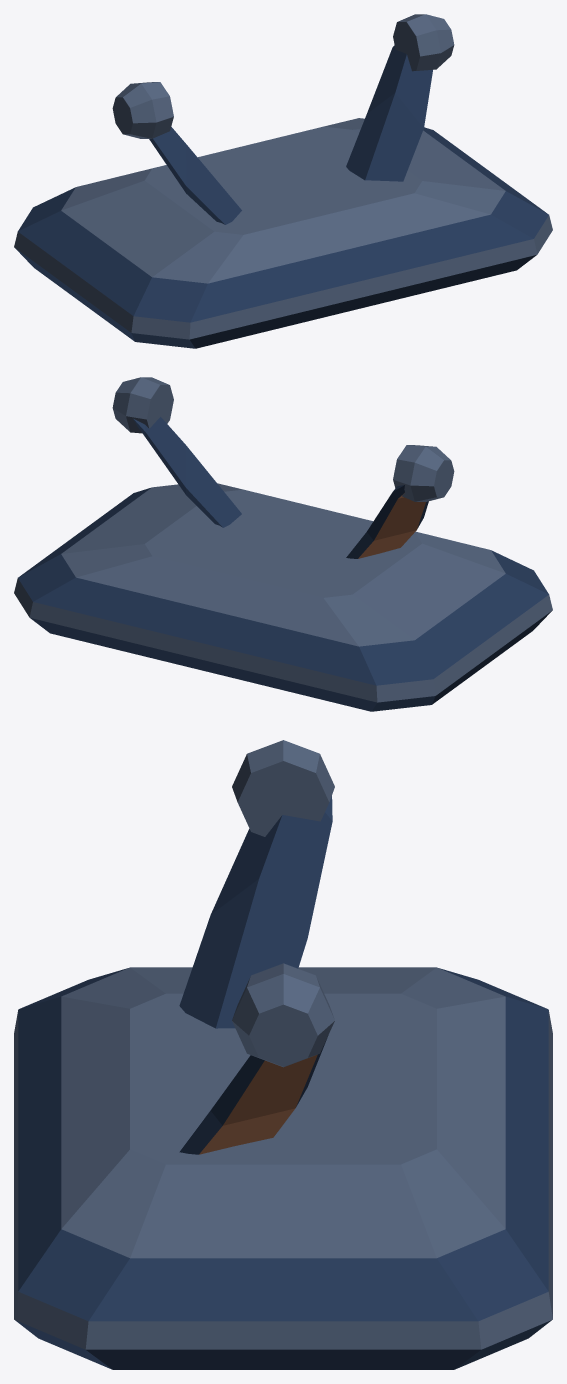
File: observatory-lens.glb
3 views of the same model, one above another, from view 1: azimuth 30°, elevation 25°; view 2: azimuth 150°, elevation 25°; view 3: azimuth 270°, elevation 25° (orthographic). The views are drawn at different scales.
Visible parts, largest first — view 1: observatory-lens; view 2: observatory-lens; view 3: observatory-lens.
Part boxes in pixels (x1=…): observatory-lens: x1=14, y1=14, x2=552, y2=348; observatory-lens: x1=14, y1=377, x2=552, y2=711; observatory-lens: x1=14, y1=740, x2=552, y2=1369.
Size of the model in its own units: 5.72 by 2.69 by 3.76.
